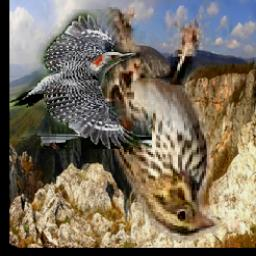Sparrow: (105, 7, 220, 242)
Woodpecker: (10, 10, 153, 150)
